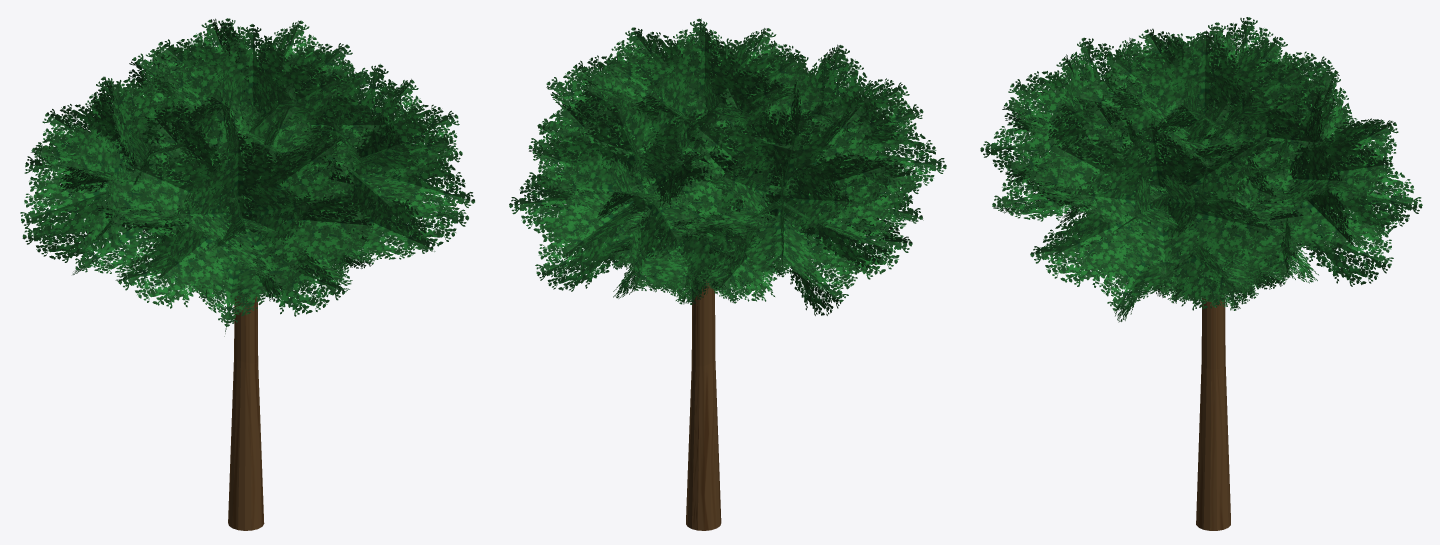
Rendered from tree.fbx.
3 views of the same model, side by side, from view 1: azimuth 30°, elevation 25°; view 2: azimuth 150°, elevation 25°; view 3: azimuth 270°, elevation 25° (orthographic).
Parts seen in each view (by area): view 1: Cylinder; view 2: Cylinder; view 3: Cylinder.
Part boxes in pixels (bbox=[...]): Cylinder: bbox=[20, 18, 474, 530]; Cylinder: bbox=[509, 18, 946, 530]; Cylinder: bbox=[980, 17, 1422, 530].
Bounding box in the file's own units: 515 × 611 × 503.
